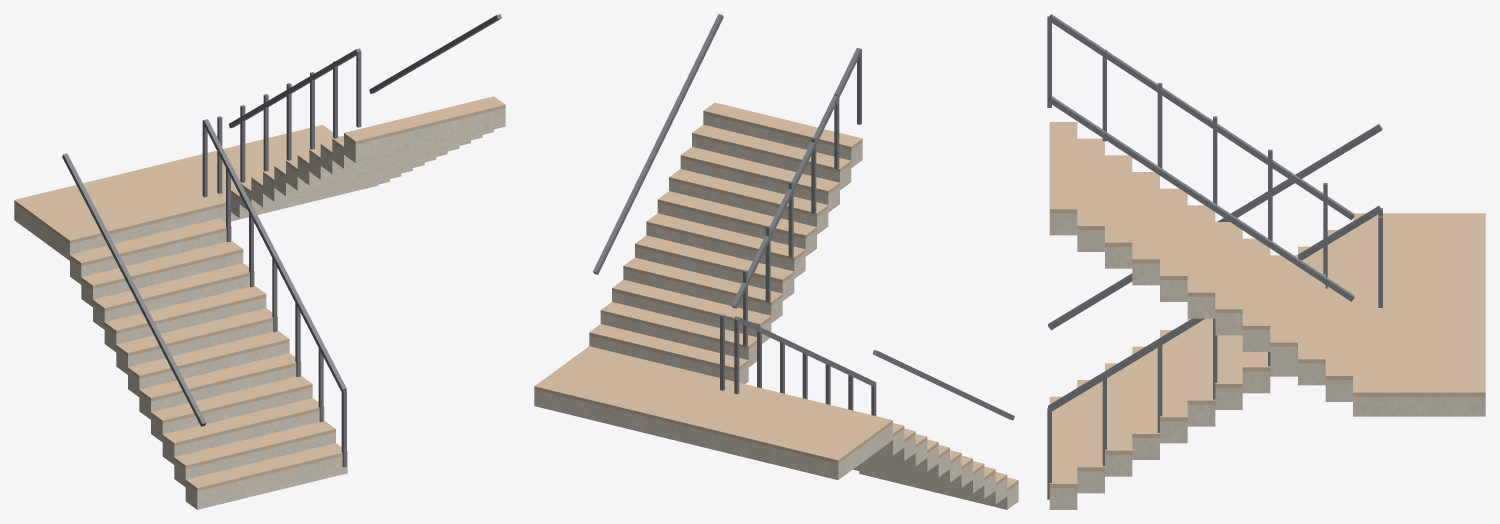
File: stairs_u_4m_192_192.glb
3 views of the same model, side by side, from view 1: azimuth 30°, elevation 25°; view 2: azimuth 150°, elevation 25°; view 3: azimuth 270°, elevation 25° (orthographic). The views are drawn at different scales.
Parts seen in each view (by area): view 1: stairs_u_4m_192_192_floor, stairs_u_4m_192_192_plaster, stairs_u_4m_192_192_iron; view 2: stairs_u_4m_192_192_floor, stairs_u_4m_192_192_plaster, stairs_u_4m_192_192_iron; view 3: stairs_u_4m_192_192_floor, stairs_u_4m_192_192_plaster, stairs_u_4m_192_192_iron.
Part boxes in pixels (x1,y1,x2,y2): stairs_u_4m_192_192_floor: (14, 96, 505, 491); stairs_u_4m_192_192_plaster: (14, 108, 505, 509); stairs_u_4m_192_192_iron: (62, 14, 501, 467); stairs_u_4m_192_192_floor: (534, 102, 1018, 491); stairs_u_4m_192_192_plaster: (534, 114, 1018, 509); stairs_u_4m_192_192_iron: (593, 14, 1014, 420); stairs_u_4m_192_192_floor: (1049, 122, 1485, 487); stairs_u_4m_192_192_plaster: (1049, 213, 1485, 509); stairs_u_4m_192_192_iron: (1047, 14, 1382, 499).
Bounding box in the file's own units: 3.84 × 5.01 × 3.97.
3 materials, 1 textured.
